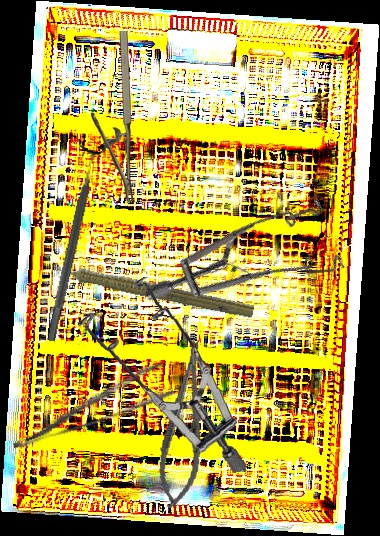Dressing Forceps: (3, 360, 176, 453)
Fixation Ring: (35, 138, 108, 345)
Handpiece: (39, 251, 257, 323)
Needle Holder: (152, 336, 218, 512), (91, 31, 133, 201)
Speculum: (140, 154, 369, 384), (74, 271, 247, 483)
